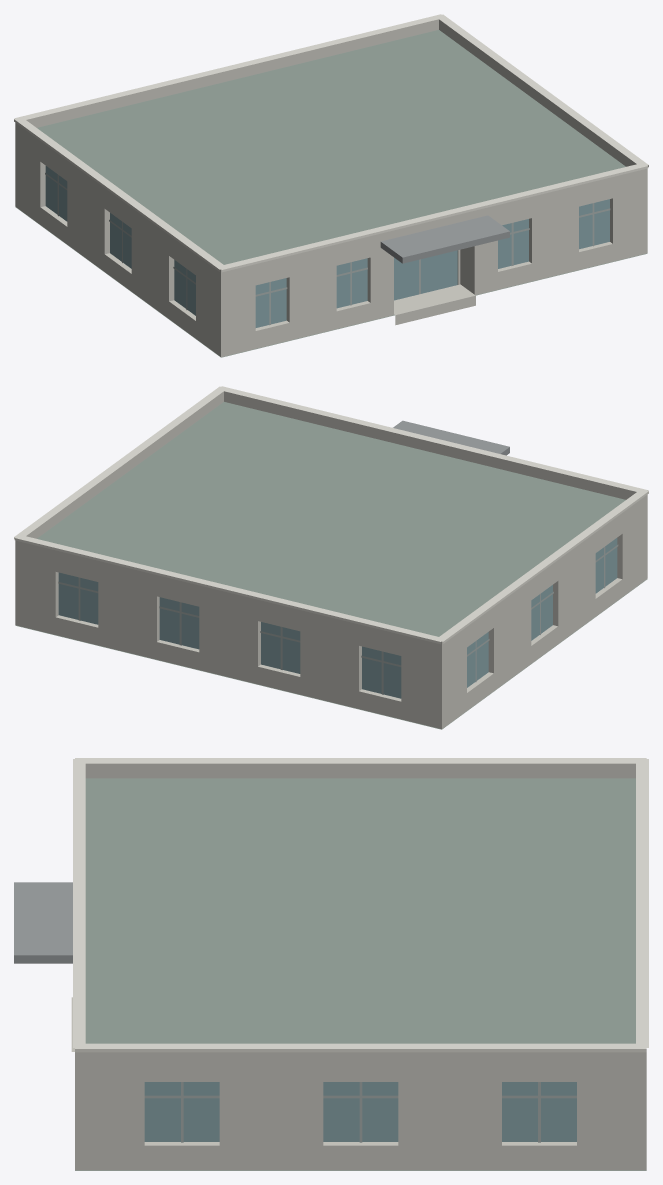
3 views of the same model, one above another, from view 1: azimuth 30°, elevation 25°; view 2: azimuth 150°, elevation 25°; view 3: azimuth 270°, elevation 25° (orthographic). The views are drawn at different scales.
Parts seen in each view (by area): view 1: aux-580373350__roof, aux-580373350__wall, aux-580373350__parapet, aux-580373350__glass, aux-580373350__trim, aux-580373350__canopy, aux-580373350__entranceThreshold_0, aux-580373350__frame; view 2: aux-580373350__roof, aux-580373350__wall, aux-580373350__parapet, aux-580373350__trim, aux-580373350__glass, aux-580373350__frame, aux-580373350__canopy; view 3: aux-580373350__roof, aux-580373350__wall, aux-580373350__trim, aux-580373350__parapet, aux-580373350__glass, aux-580373350__canopy, aux-580373350__frame.
Boxes of the visible parts, x1,y1,x2,y2 form: aux-580373350__roof: [15, 30, 647, 357]; aux-580373350__wall: [15, 129, 647, 357]; aux-580373350__parapet: [15, 19, 647, 279]; aux-580373350__glass: [45, 166, 609, 327]; aux-580373350__trim: [14, 14, 648, 272]; aux-580373350__canopy: [380, 215, 509, 263]; aux-580373350__entranceThreshold_0: [394, 284, 475, 325]; aux-580373350__frame: [45, 173, 610, 325]; aux-580373350__roof: [15, 402, 647, 729]; aux-580373350__wall: [15, 501, 647, 729]; aux-580373350__parapet: [15, 391, 647, 651]; aux-580373350__trim: [14, 386, 648, 644]; aux-580373350__glass: [58, 538, 617, 698]; aux-580373350__frame: [58, 544, 618, 694]; aux-580373350__canopy: [393, 420, 509, 455]; aux-580373350__roof: [75, 778, 646, 1170]; aux-580373350__wall: [75, 1062, 646, 1170]; aux-580373350__trim: [73, 758, 648, 1052]; aux-580373350__parapet: [75, 763, 646, 1062]; aux-580373350__glass: [144, 1082, 576, 1141]; aux-580373350__canopy: [14, 882, 72, 963]; aux-580373350__frame: [144, 1082, 576, 1142].
Size of the model in its own units: 19.17 by 4.15 by 17.68.
